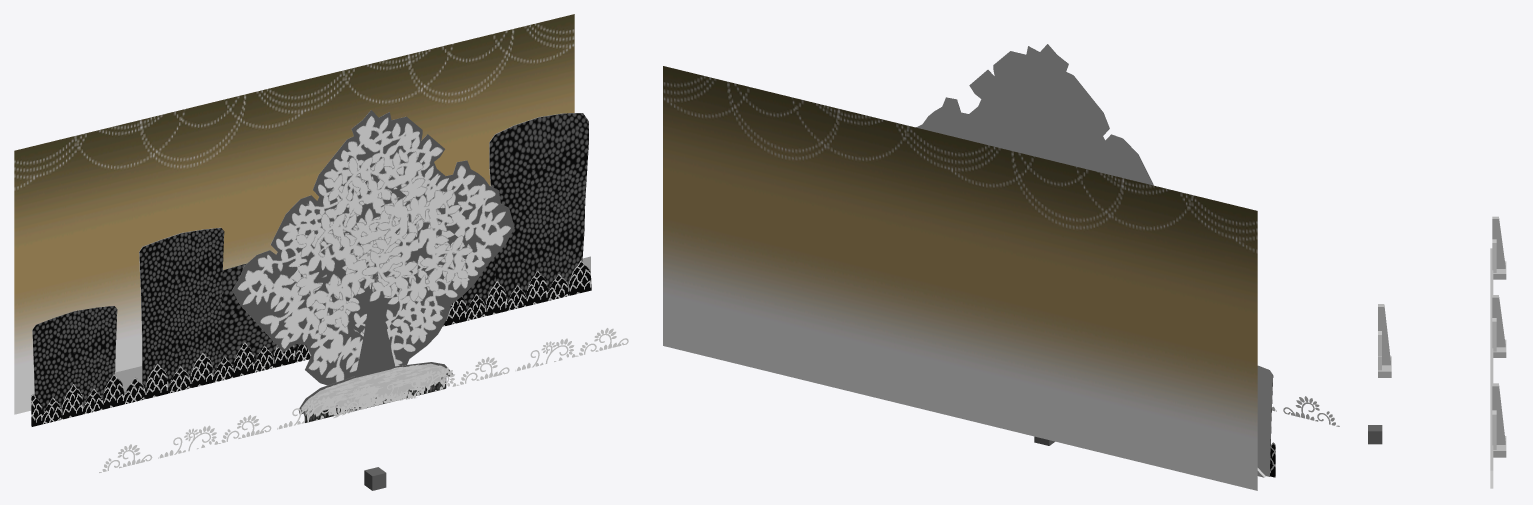
File: stg_02_0_bake.dae
The picture shows the model from 3 angles, left to right: view 1: azimuth 30°, elevation 25°; view 2: azimuth 150°, elevation 25°; view 3: azimuth 270°, elevation 25°; orthographic projection. The views are drawn at different scales.
Parts seen in each view (by area): view 1: pPlane442_q00034, S_tree_02_02, pPlane59_q00014, S_tree_02_01, pPlane45_q00013, polySurface1257_q00016, pPlane65_q00015, S_tree_02_06, S_tree_02_05, S_tree_02_04, S_kusa, pPlane44_q00012 (+4 smaller); view 2: pPlane442_q00034, S_tree_02_08, polySurface1258_q00033; view 3: polySurface1252_q00029, pCube24_q00025, pCube24_q00022, pCube24_q00019, pCube24_q00006, pCube25_q00000, pCube23_q00024, pCube22_q00023.
Boxes of the visible parts, x1=… form: pPlane442_q00034: x1=14, y1=14, x2=574, y2=414; S_tree_02_02: x1=237, y1=115, x2=510, y2=381; pPlane59_q00014: x1=489, y1=113, x2=588, y2=310; S_tree_02_01: x1=232, y1=110, x2=514, y2=385; pPlane45_q00013: x1=139, y1=228, x2=224, y2=398; polySurface1257_q00016: x1=31, y1=260, x2=591, y2=426; pPlane65_q00015: x1=32, y1=306, x2=117, y2=418; S_tree_02_06: x1=362, y1=189, x2=472, y2=301; S_tree_02_05: x1=296, y1=208, x2=404, y2=334; S_tree_02_04: x1=324, y1=151, x2=429, y2=274; S_kusa: x1=99, y1=328, x2=628, y2=472; pPlane44_q00012: x1=221, y1=263, x2=299, y2=370; pPlane442_q00034: x1=663, y1=66, x2=1257, y2=490; S_tree_02_08: x1=916, y1=44, x2=1153, y2=185; polySurface1258_q00033: x1=1257, y1=366, x2=1272, y2=476; polySurface1252_q00029: x1=1490, y1=248, x2=1493, y2=488; pCube24_q00025: x1=1492, y1=383, x2=1505, y2=444; pCube24_q00022: x1=1492, y1=216, x2=1505, y2=268; pCube24_q00019: x1=1492, y1=295, x2=1505, y2=347; pCube24_q00006: x1=1378, y1=304, x2=1390, y2=365; pCube25_q00000: x1=1368, y1=425, x2=1382, y2=444; pCube23_q00024: x1=1492, y1=410, x2=1496, y2=449; pCube22_q00023: x1=1493, y1=436, x2=1506, y2=457.
Bounding box in the file's own units: 40 × 27.5 × 10.5.
